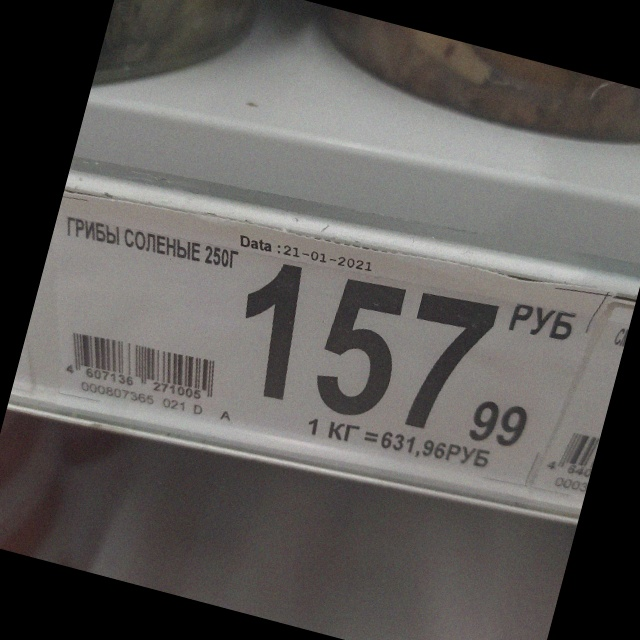barcode: (66, 331, 219, 401)
name: (66, 216, 241, 275)
price: (241, 260, 530, 448)
price_tag: (64, 189, 615, 491)
